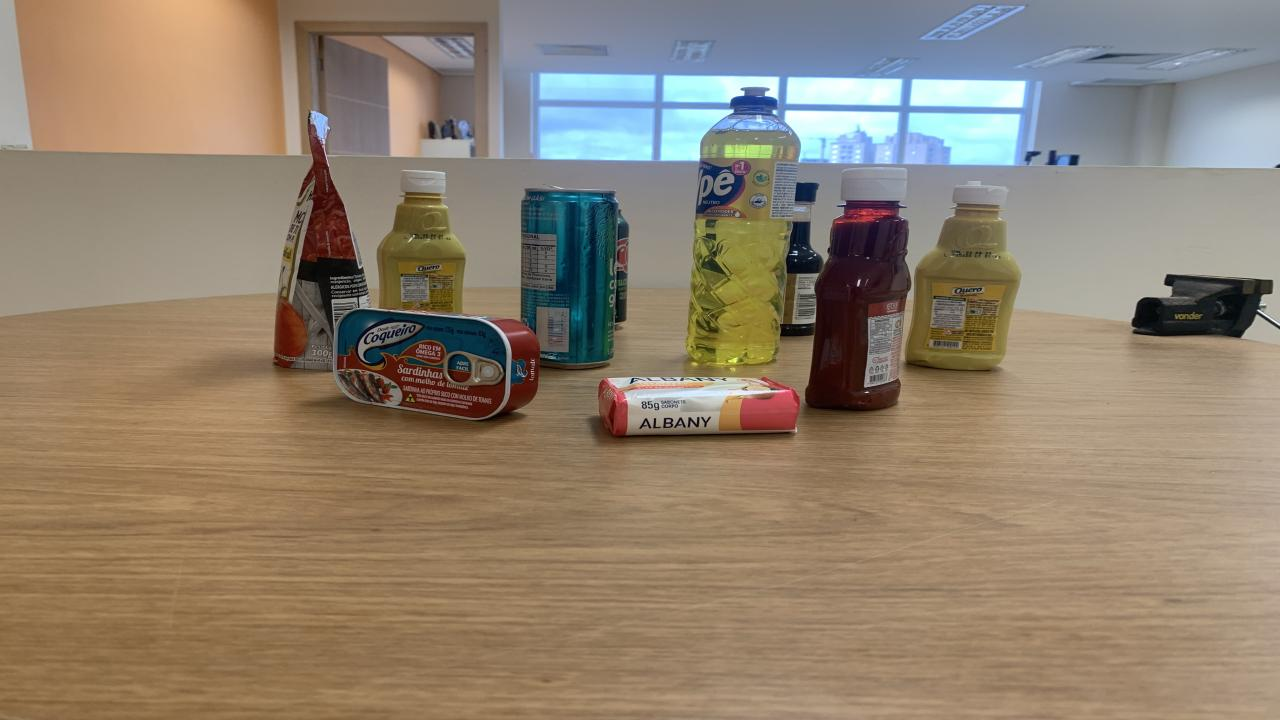Detergent-Cleanup_Items: (688, 84, 800, 364)
English_Sauce-Pantry_Items: (780, 182, 822, 336)
Ketchup-Pantry_Items: (805, 167, 910, 411), (805, 167, 910, 409)
Mustard-Pantry_Items: (905, 182, 1020, 369), (378, 171, 465, 313)
Soap-Cleanup_Items: (600, 377, 800, 435)
Tea-Drinks: (520, 188, 618, 368)
Tomato_Sauce-Pantry_Items: (275, 112, 370, 369)
Tuna_Can-Pantry_Items: (332, 308, 540, 420)
